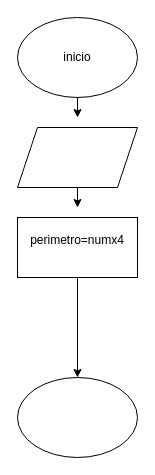
Image size: 155x475. Some labels were removed from this diagram. Here are the shapes that lost their labels. From the top down, the centre of each, then its label:
At point 77,157: "num,perimetro;".
At point 77,417: "fin".
